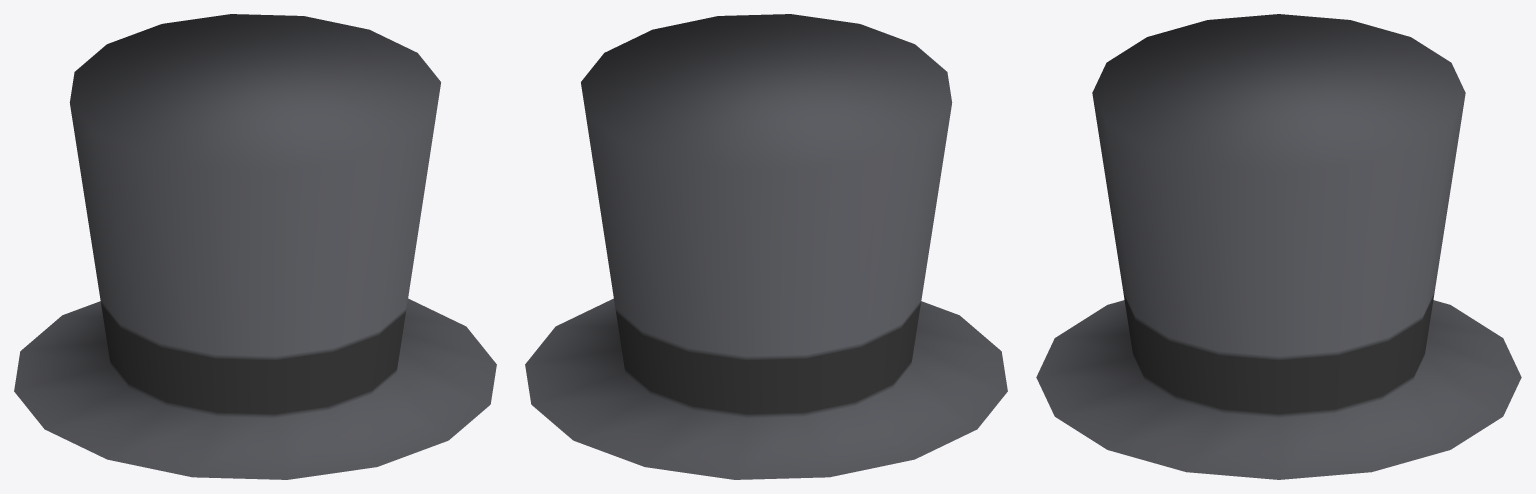
File: amogus-hat-cylinder.fbx
3 views of the same model, side by side, from view 1: azimuth 30°, elevation 25°; view 2: azimuth 150°, elevation 25°; view 3: azimuth 270°, elevation 25° (orthographic).
Visible parts, largest first — view 1: Cylinder.001; view 2: Cylinder.001; view 3: Cylinder.001.
Boxes of the visible parts, x1,y1,x2,y2 form: Cylinder.001: (14,14,496,479); Cylinder.001: (525,14,1007,479); Cylinder.001: (1036,14,1521,479).
Bounding box in the file's own units: 93.97 × 93.97 × 60.77.
